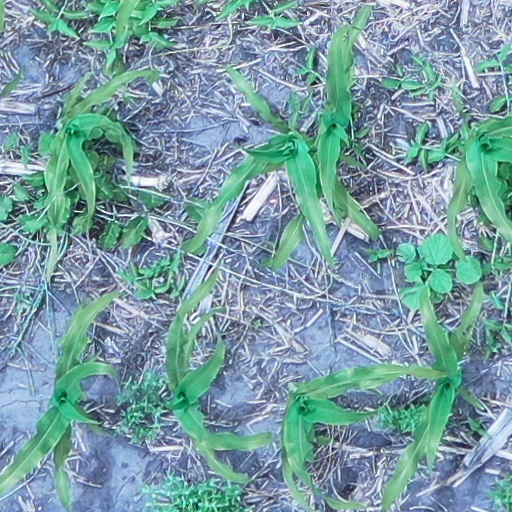planta: (181, 66, 335, 266), (269, 4, 378, 271), (279, 361, 447, 507), (163, 274, 272, 483), (45, 70, 156, 234)
